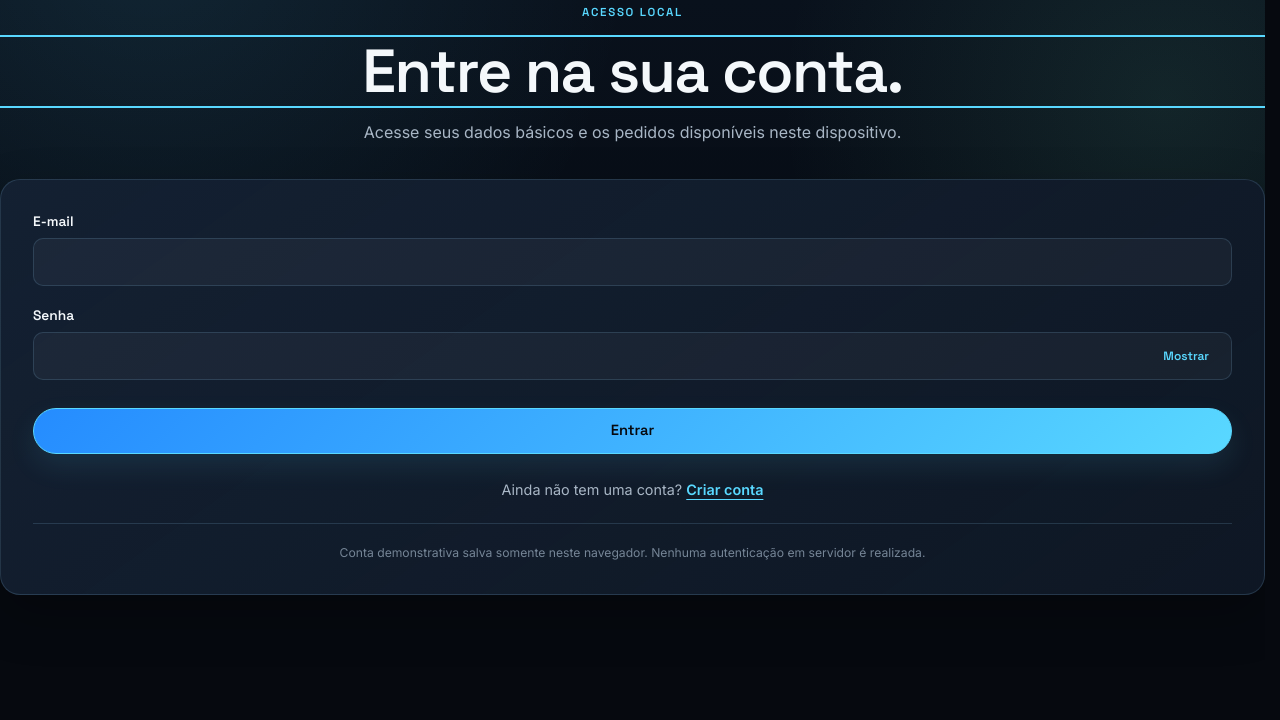
Test: cadastro, login e área do cliente › usa mensagem genérica e limpa a senha quando o login falha
Type "felipe@exemplo.com" into the field labelled "E-mail".
click(632, 262); type("felipe@exemplo.com")  # box [33,238,1232,286]
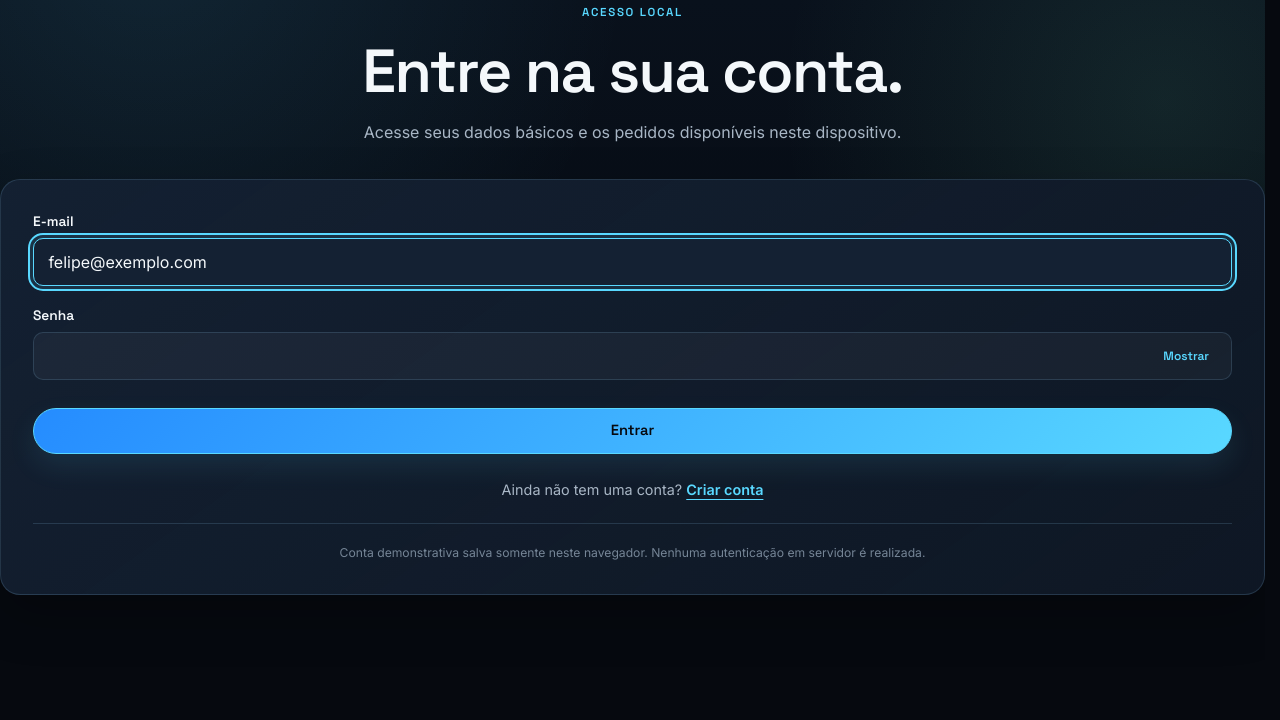
Type "senhaerrada1" into the password field labelled "Senha".
click(632, 356); type("senhaerrada1")  # box [33,332,1232,380]
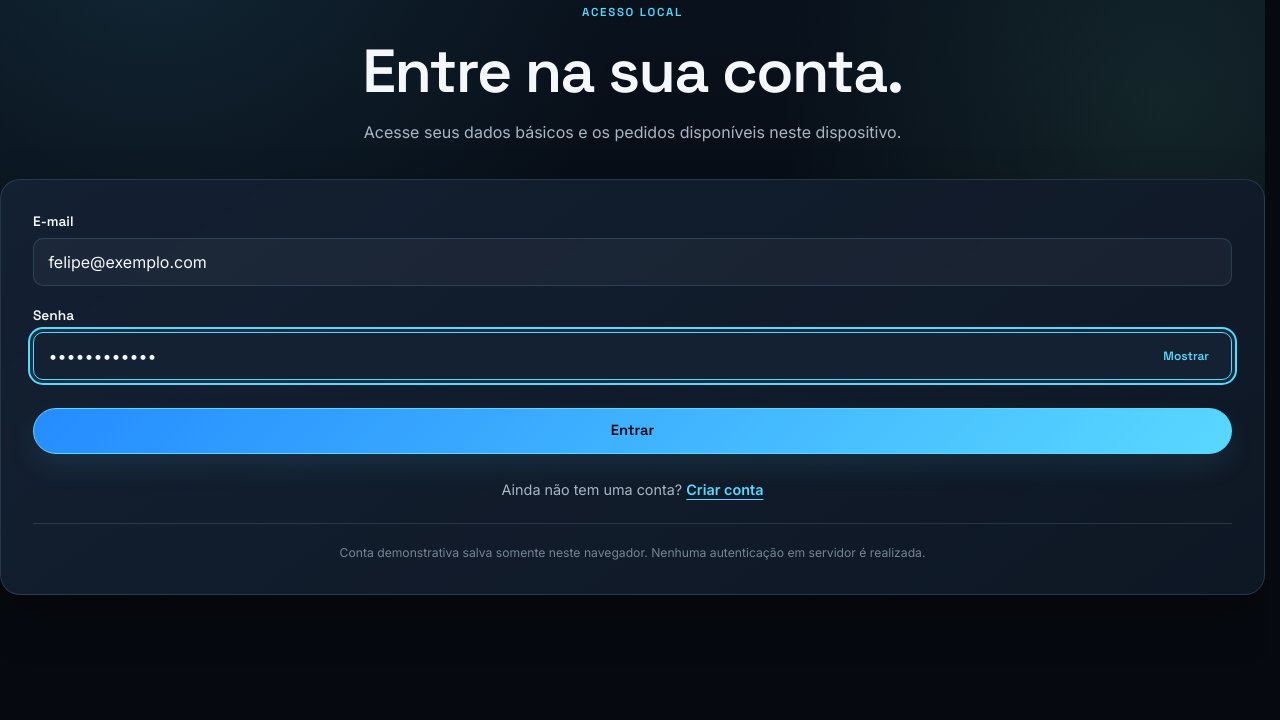
Click the button "Entrar".
click(632, 431)  # box [33,408,1232,454]
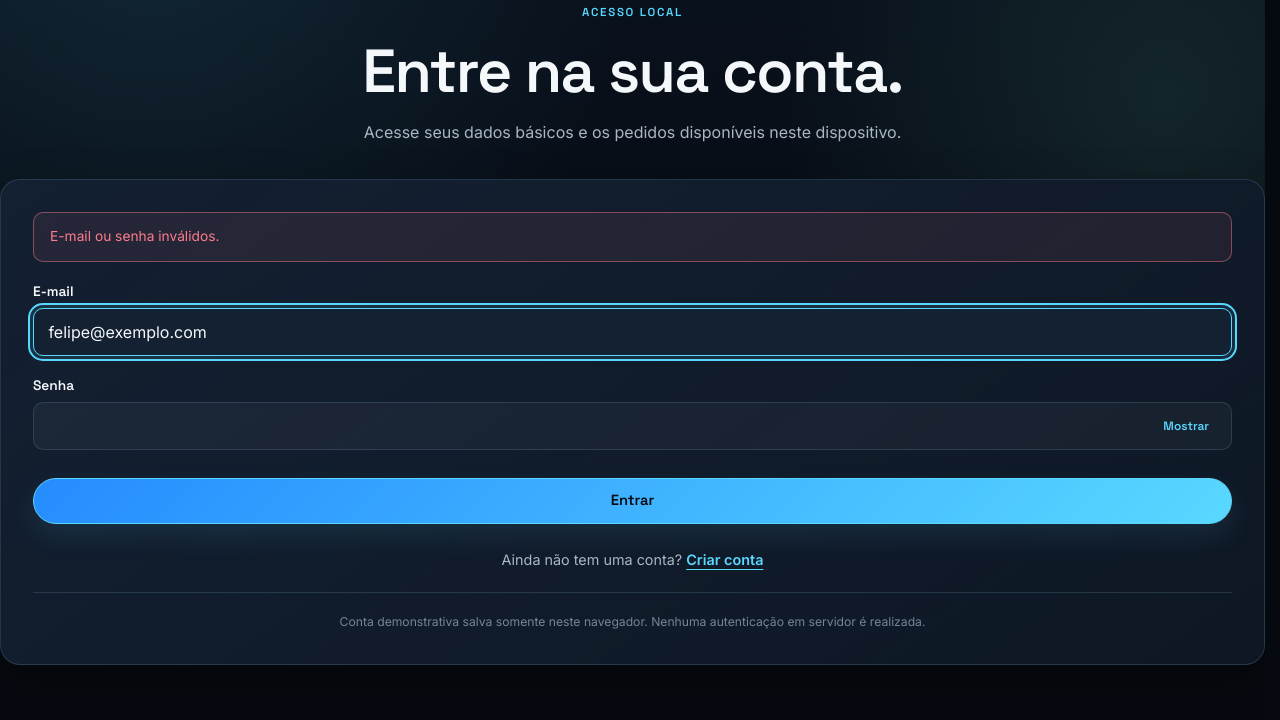
Expected: the message reads "E-mail ou senha inválidos.", [50,228,219,244]
Expected: the password field labelled "Senha" is empty, [33,402,1232,450]
